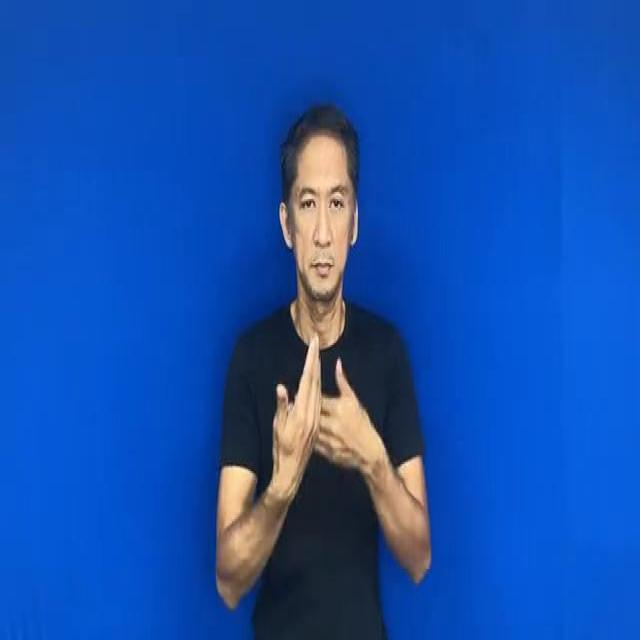bread: (268, 332, 382, 507)
